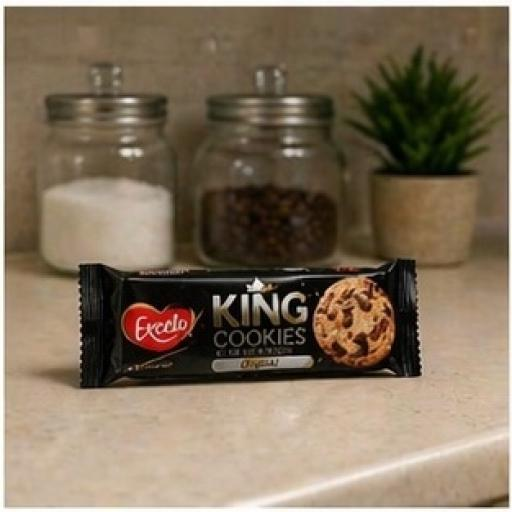king-cooking: (41, 214, 475, 441)
